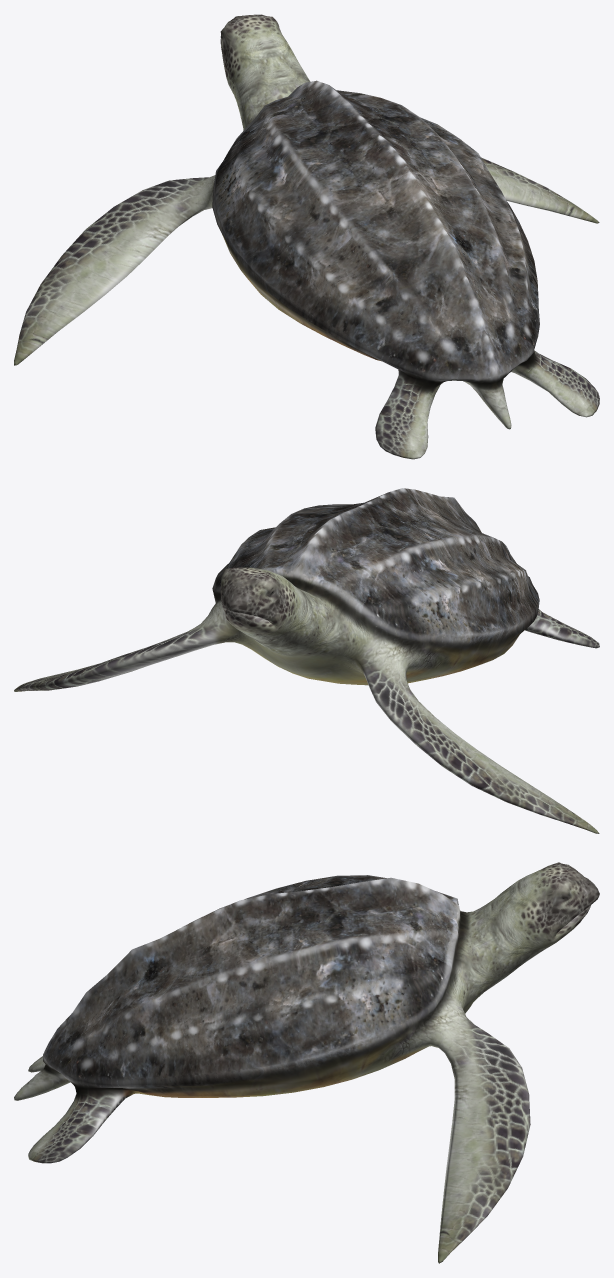
3 renders of one model, top to bottom at view 1: azimuth 30°, elevation 25°; view 2: azimuth 150°, elevation 25°; view 3: azimuth 270°, elevation 25°, orthographic. The views are drawn at different scales.
Parts seen in each view (by area): view 1: lpg:ZBrushPolyMesh3D; view 2: lpg:ZBrushPolyMesh3D; view 3: lpg:ZBrushPolyMesh3D.
Boxes of the visible parts, x1,y1,x2,y2 form: lpg:ZBrushPolyMesh3D: [14, 14, 599, 459]; lpg:ZBrushPolyMesh3D: [14, 488, 599, 833]; lpg:ZBrushPolyMesh3D: [14, 862, 599, 1263].
Bounding box in the file's own units: 11.16 × 4.24 × 9.25.
Materials: 1 (1 with a texture image).
